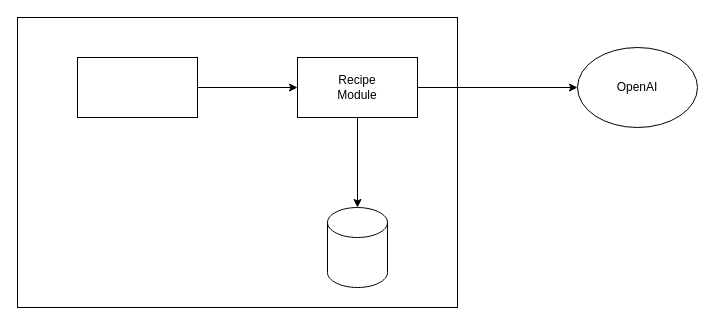
This 715x325 diagram has some shape labels left out. Here are the shapes that lost their labels. From the top down, the centre of each, then its label:
At point (137, 87): "API Web Service".
At point (357, 247): "Postgres".
